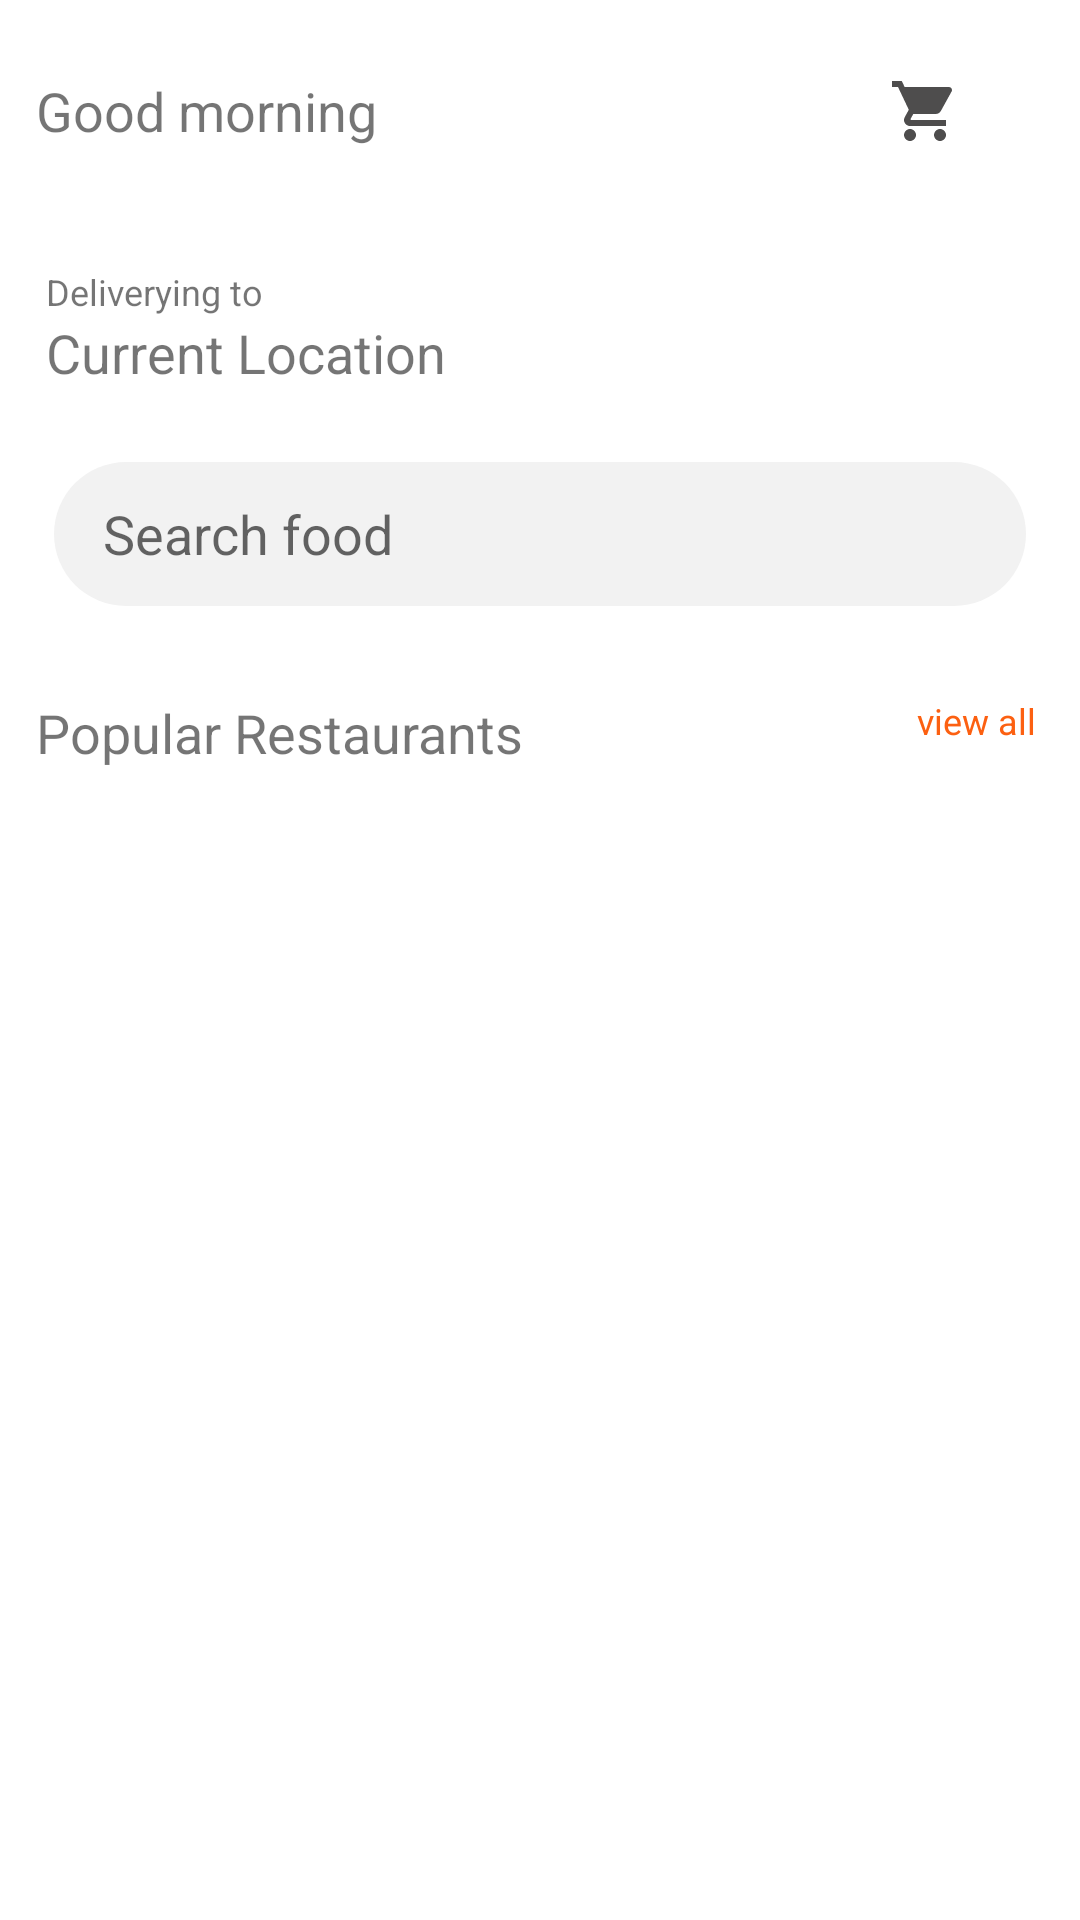

Icons on this 1080px×1920px Android screen, each with the point to tap as [x,y]:
shopping cart: [922,111]
